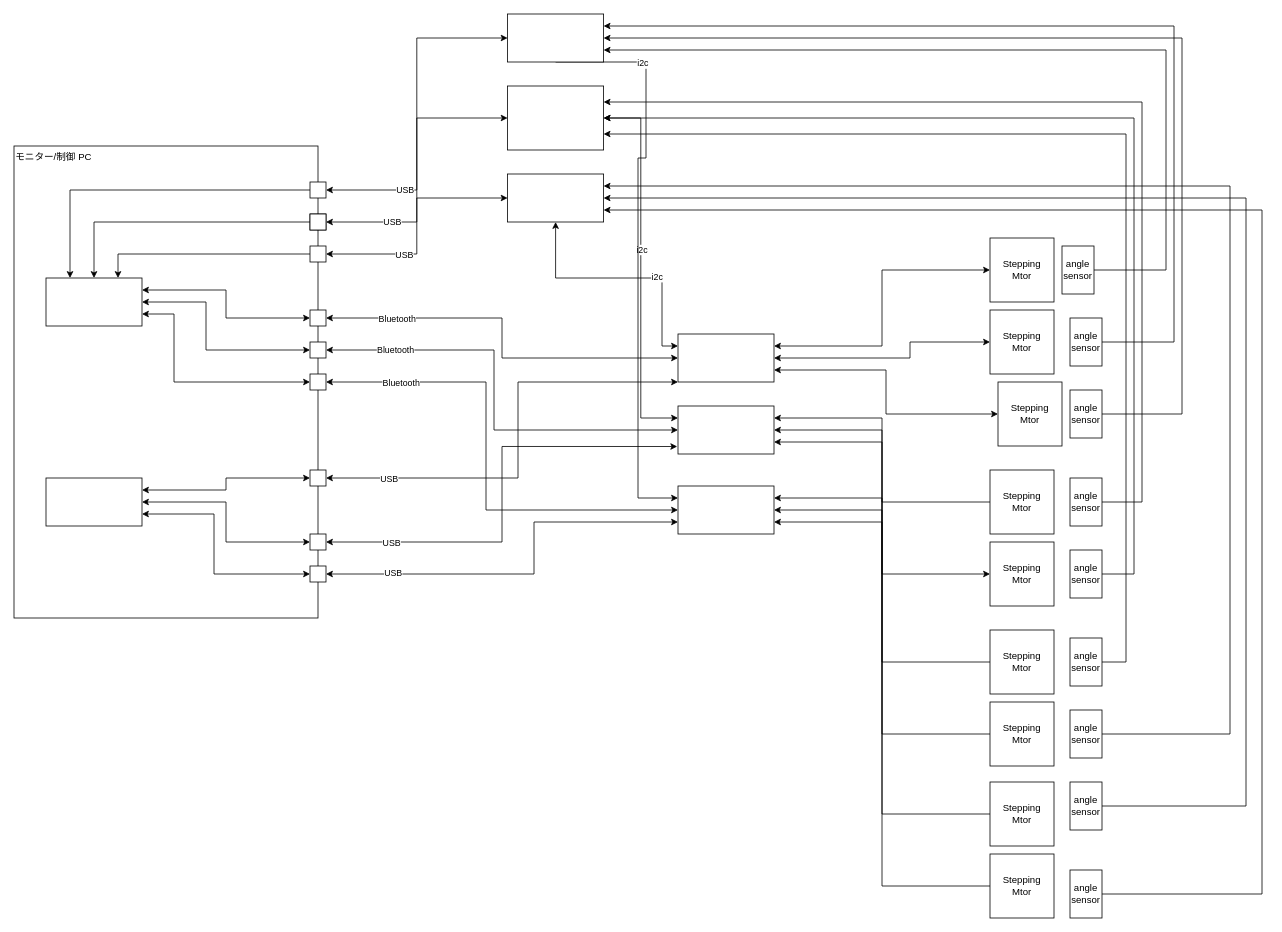
Some shapes in this 1282 by 932 pixel diagram are drawn without their labels. Here are the shapes that lost their labels. From the top down, the box of each, then its label:
(507, 13, 604, 62): multi_i2c_bridge2
(507, 85, 604, 150): multi_i2c_bridge1
(507, 173, 604, 222): multi_i2c_bridge0
(45, 277, 142, 326): モニタアプリ
(677, 333, 774, 382): SteppingMotorDriver0
(677, 405, 774, 454): SteppingMotorDriver1
(45, 477, 142, 526): 制御アプリ
(677, 485, 774, 534): SteppingMotorDriver2
